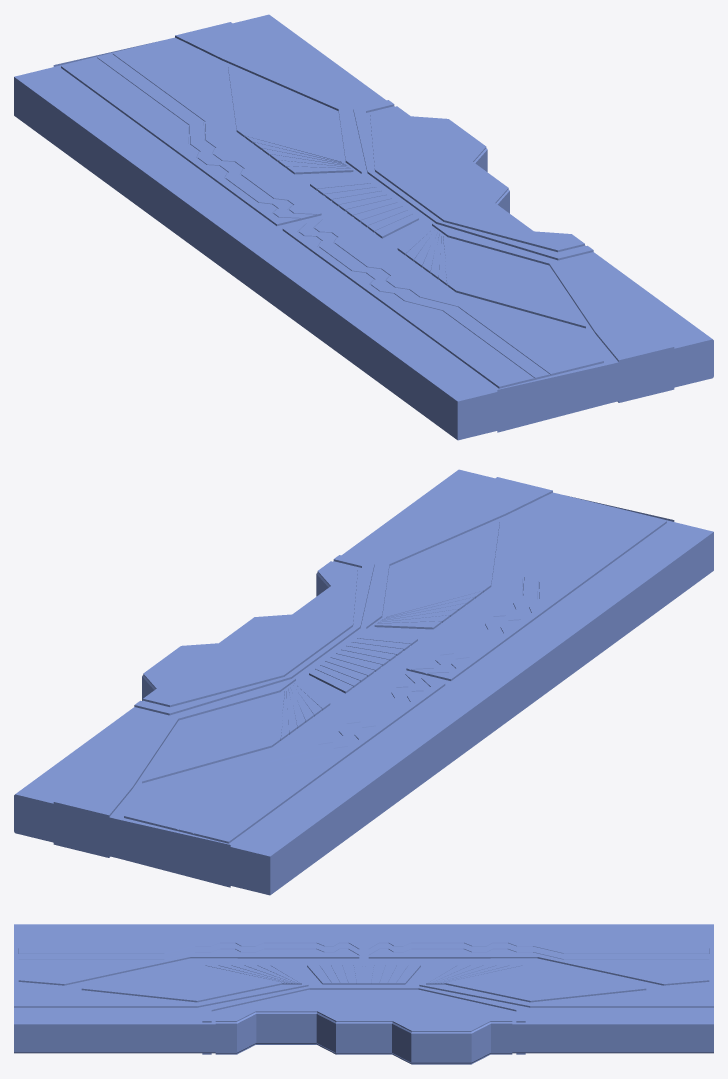
File: DoorSlide.fbx
3 views of the same model, one above another, from view 1: azimuth 30°, elevation 25°; view 2: azimuth 150°, elevation 25°; view 3: azimuth 270°, elevation 25° (orthographic). The views are drawn at different scales.
Visible parts, largest first — view 1: door_blocl1.002; view 2: door_blocl1.002; view 3: door_blocl1.002.
Boxes of the visible parts, <box> form: door_blocl1.002: <box>14,14,713,440</box>; door_blocl1.002: <box>14,469,713,895</box>; door_blocl1.002: <box>14,924,713,1064</box>.
Bounding box in the file's own units: 110 × 15.96 × 300.
